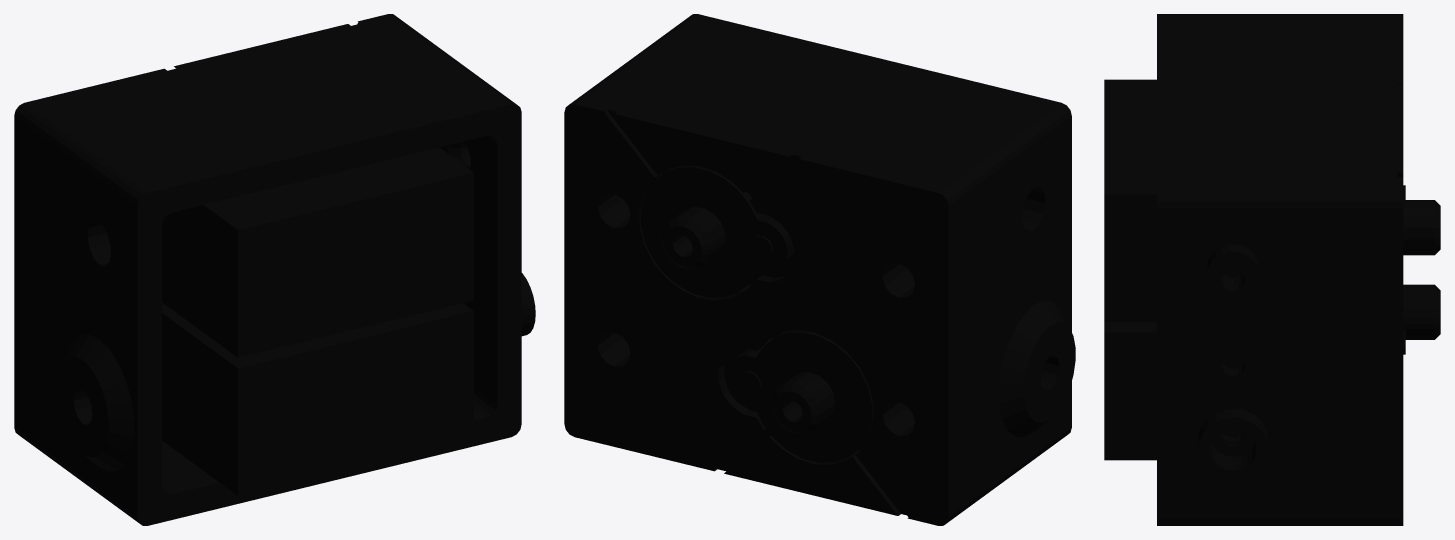
The picture shows the model from 3 angles, left to right: view 1: azimuth 30°, elevation 25°; view 2: azimuth 150°, elevation 25°; view 3: azimuth 270°, elevation 25°; orthographic projection.
Parts seen in each view (by area): view 1: lb1; view 2: lb1; view 3: lb1.
Part boxes in pixels (<box>): lb1: <box>14,14,535,525</box>; lb1: <box>564,14,1075,525</box>; lb1: <box>1104,14,1440,525</box>.
Size of the model in its own units: 0.0428 by 0.0287 by 0.0313.
1 material, 1 textured.
